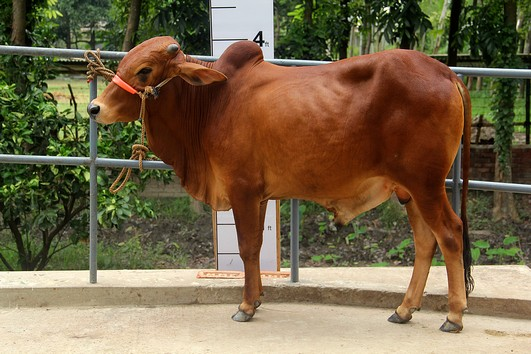cow: (85, 30, 478, 336)
